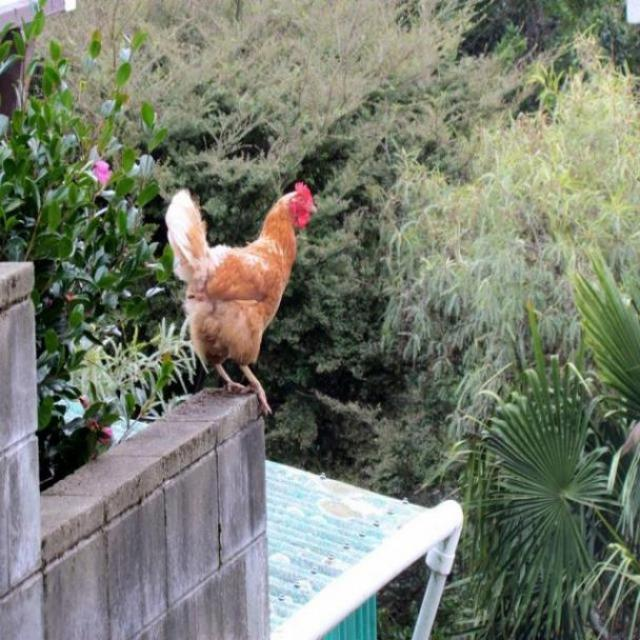Chicken: (160, 172, 320, 410)
